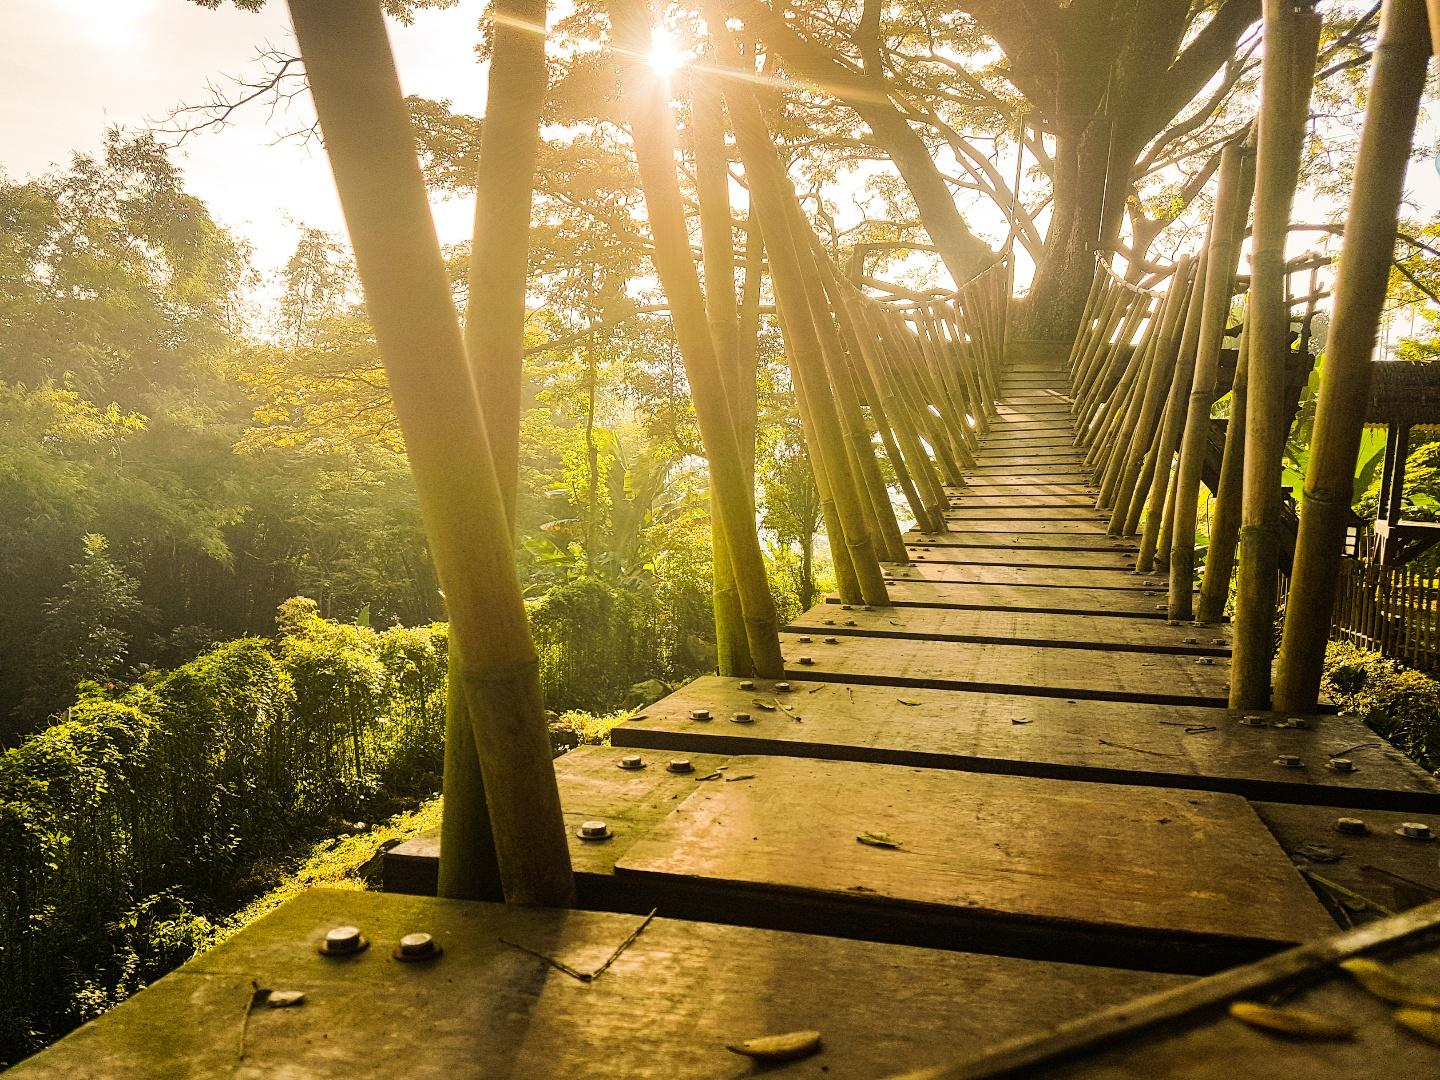penholder: (1432, 106, 1440, 319)
